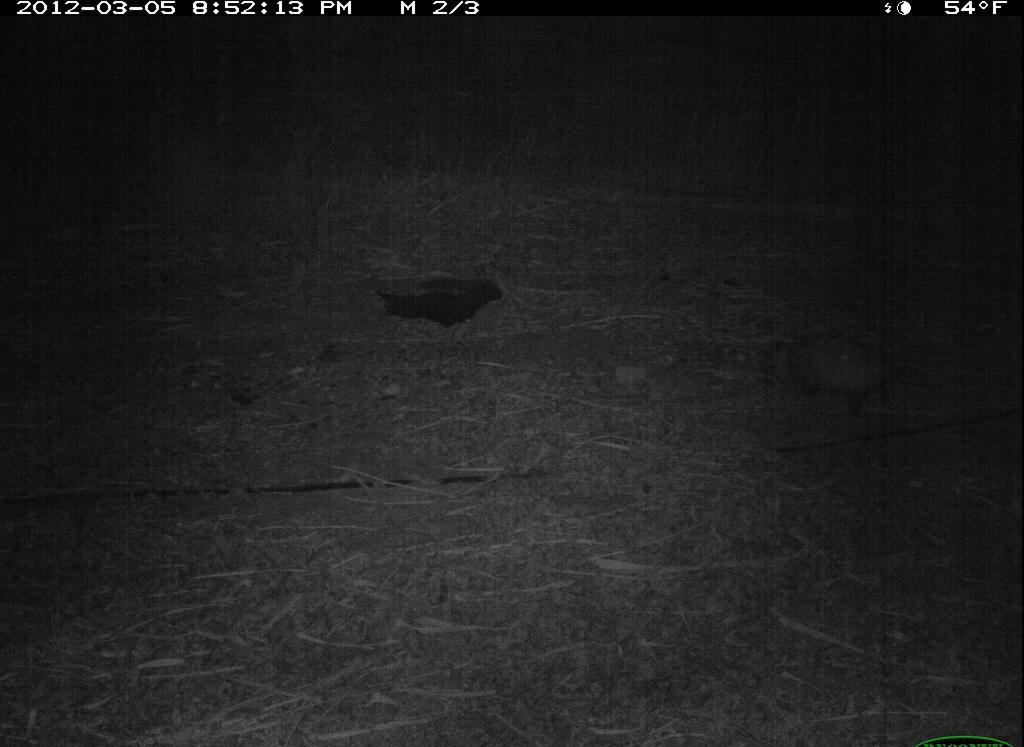opossum: (766, 324, 912, 419)
